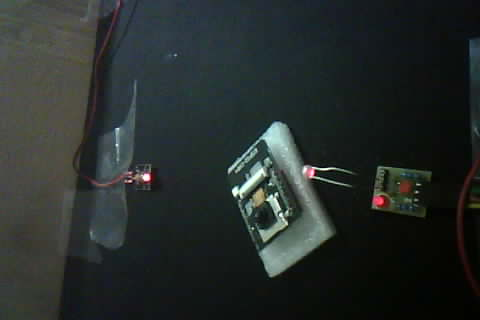esp32: (223, 124, 309, 276)
